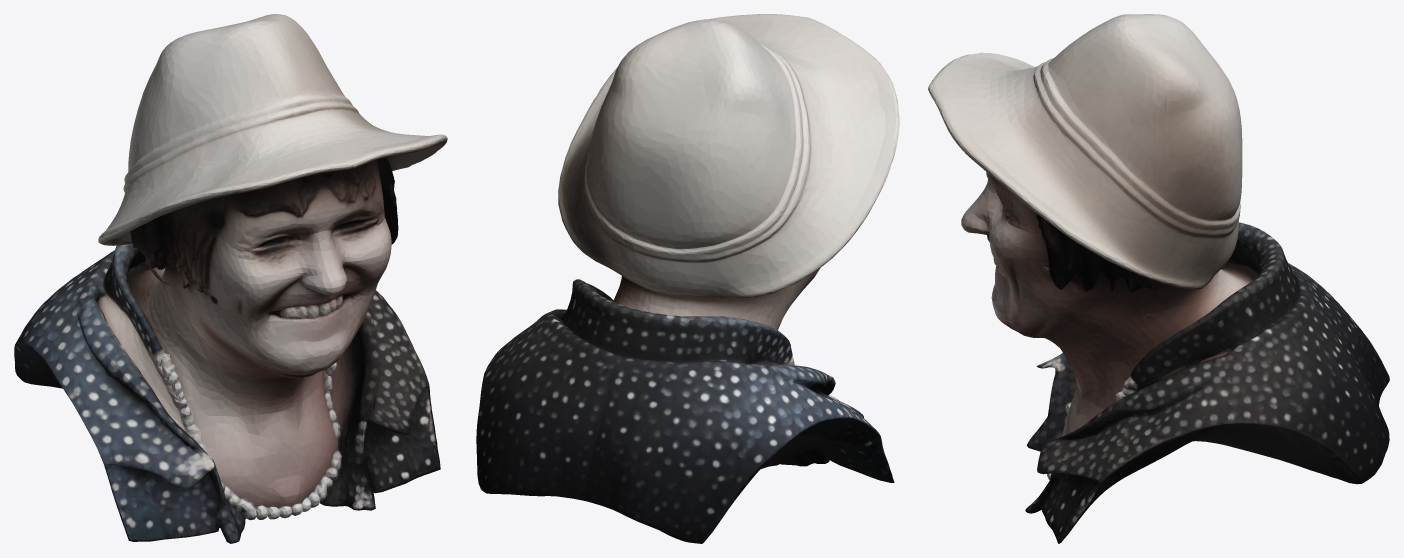
The picture shows the model from 3 angles, left to right: view 1: azimuth 30°, elevation 25°; view 2: azimuth 150°, elevation 25°; view 3: azimuth 270°, elevation 25°; orthographic projection. The views are drawn at different scales.
Parts seen in each view (by area): view 1: world; view 2: world; view 3: world.
Boxes of the visible parts, x1,y1,x2,y2 form: world: (14, 14, 447, 543); world: (476, 14, 899, 543); world: (928, 14, 1389, 543).
Size of the model in its own units: 0.7376 by 1 by 0.9138.
1 material, 1 textured.
